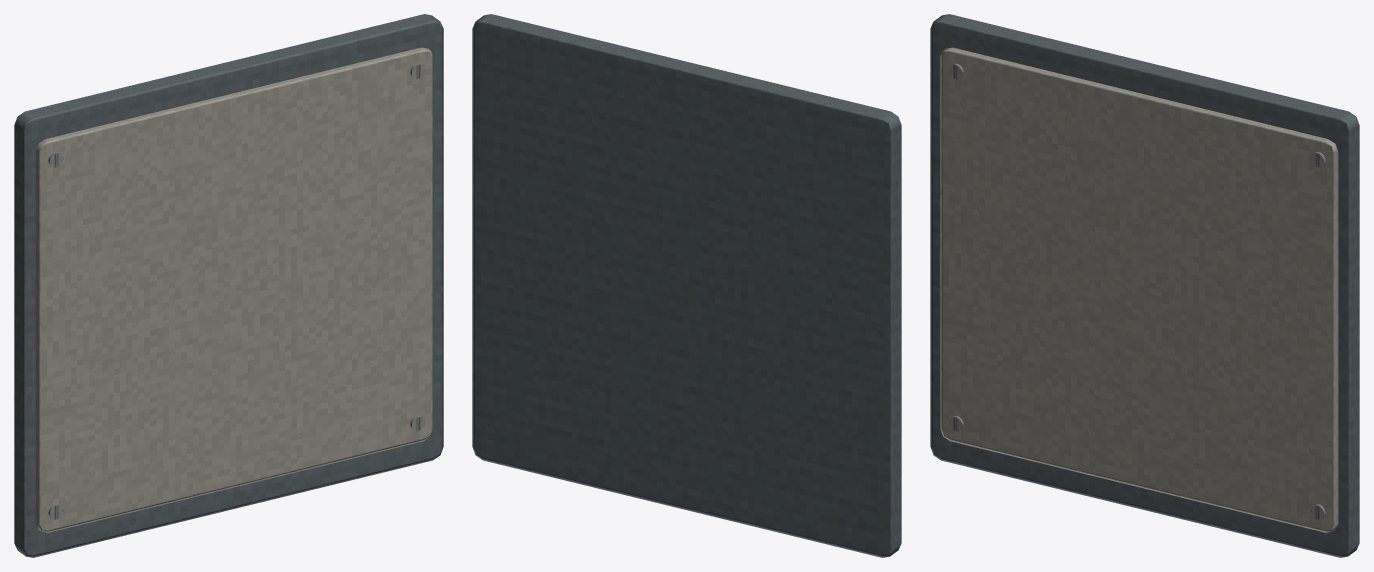
File: access.glb
3 renders of one model, left to right at view 1: azimuth 30°, elevation 25°; view 2: azimuth 150°, elevation 25°; view 3: azimuth 330°, elevation 25°, orthographic.
Parts seen in each view (by area): view 1: face, back; view 2: back; view 3: face, back.
Part boxes in pixels (box(x1,y1,x2,y2)): face: box(35, 47, 433, 532); back: box(14, 14, 443, 557); back: box(472, 14, 901, 557); face: box(940, 47, 1338, 532); back: box(930, 14, 1359, 557).
Size of the model in its own units: 0.6 by 0.6 by 0.032.
3 materials, 3 textured.
